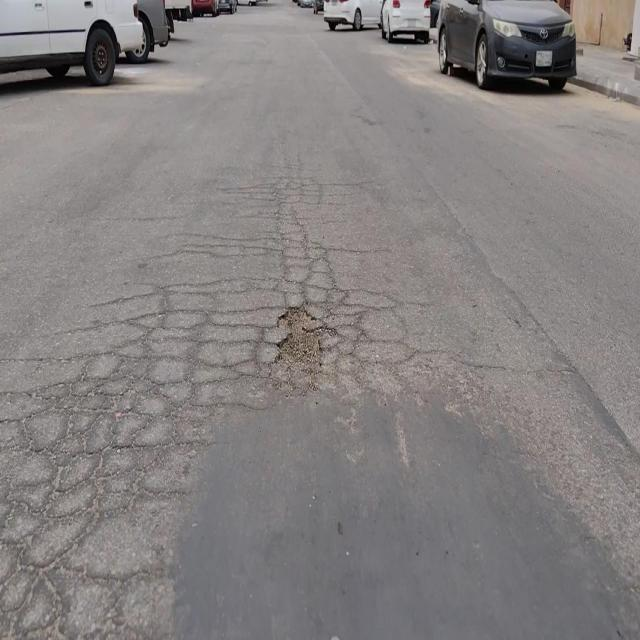Potholes: (270, 302, 329, 381)
